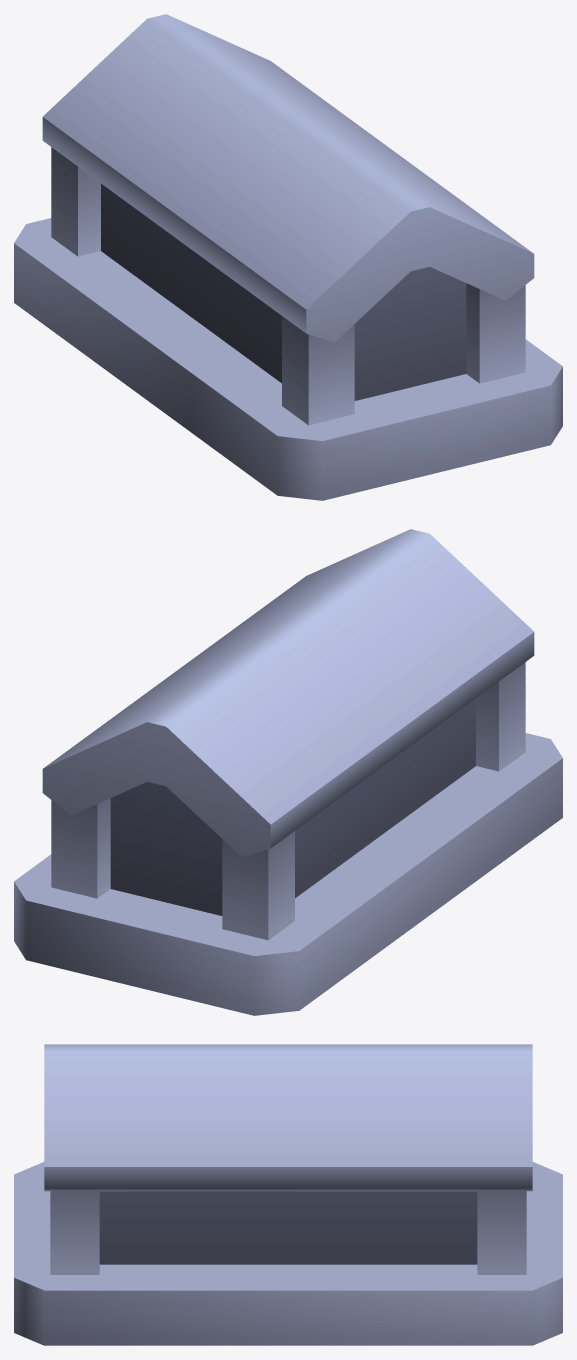
File: crypt-b.glb
3 renders of one model, top to bottom at view 1: azimuth 30°, elevation 25°; view 2: azimuth 150°, elevation 25°; view 3: azimuth 270°, elevation 25°, orthographic. The views are drawn at different scales.
Visible parts, largest first — view 1: crypt-b; view 2: crypt-b; view 3: crypt-b.
Boxes of the visible parts, x1=… form: crypt-b: x1=14, y1=14, x2=562, y2=500; crypt-b: x1=14, y1=529, x2=562, y2=1015; crypt-b: x1=14, y1=1044, x2=562, y2=1345.
Bounding box in the file's own units: 0.6201 × 0.5224 × 1.12.
Materials: 1 (1 with a texture image).
